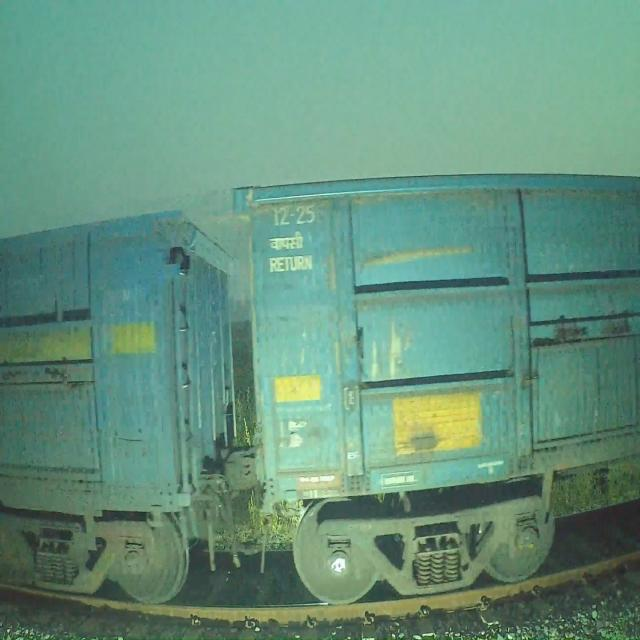WAgon-uic: (232, 169, 640, 612), (0, 204, 239, 608)
